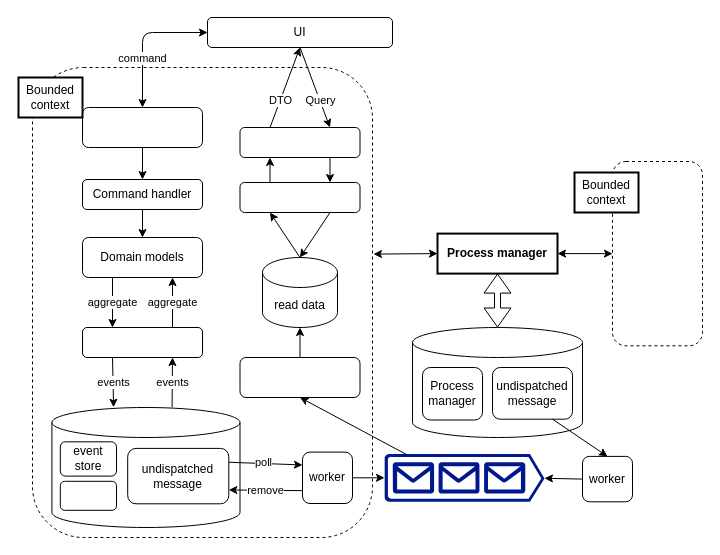
Image size: 720x555. Some labels were removed from this diagram. Each missing label, with the box of its shape:
Command processor: (82, 106, 202, 148)
event handler: (239, 356, 360, 398)
Facade pattern: (239, 126, 360, 158)
repository: (82, 326, 202, 358)
snapshot: (59, 480, 116, 510)
Thin layer: (239, 182, 360, 212)
